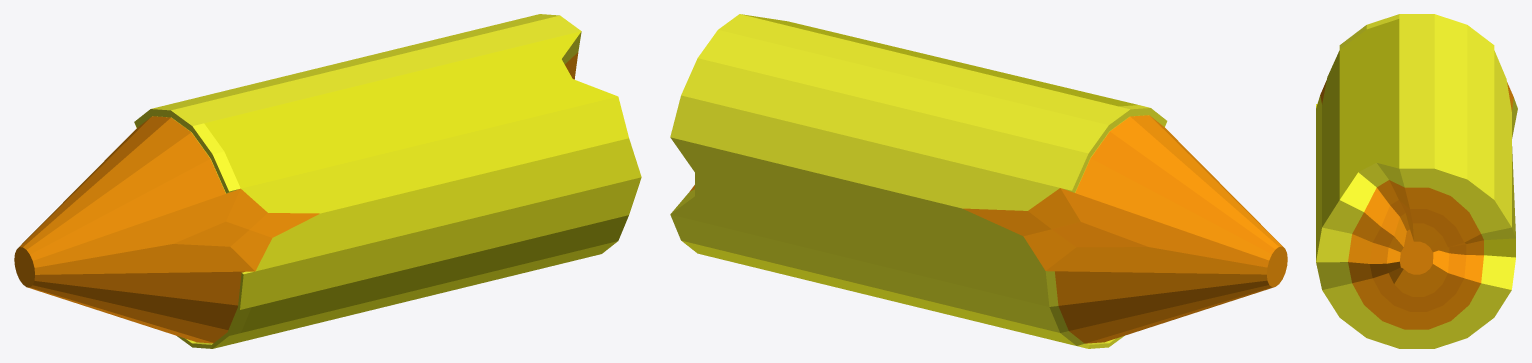
Rendered from Broken log_20.fbx.
The picture shows the model from 3 angles, left to right: view 1: azimuth 30°, elevation 25°; view 2: azimuth 150°, elevation 25°; view 3: azimuth 270°, elevation 25°; orthographic projection. The views are drawn at different scales.
Parts seen in each view (by area): view 1: Circle.311; view 2: Circle.311; view 3: Circle.311.
Boxes of the visible parts, x1,y1,x2,y2 form: Circle.311: (14, 14, 641, 348); Circle.311: (670, 14, 1287, 348); Circle.311: (1316, 14, 1517, 348).
Size of the model in its own units: 66.08 by 25.19 by 25.57.
